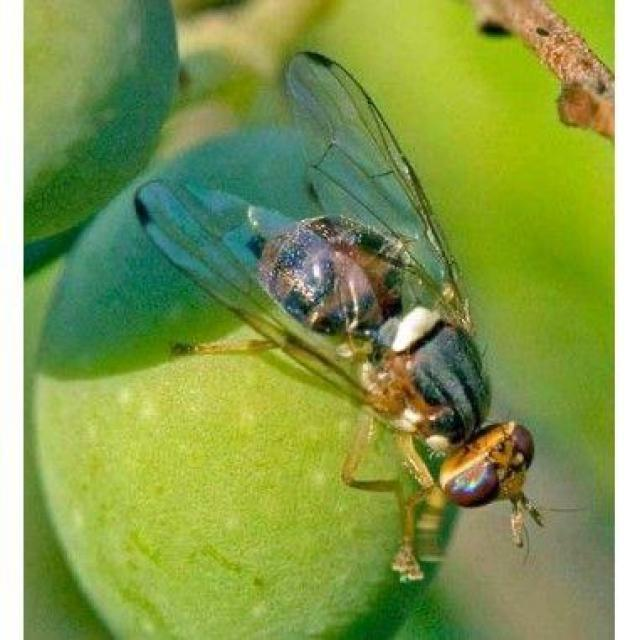Anthracnose: (34, 52, 608, 638)
